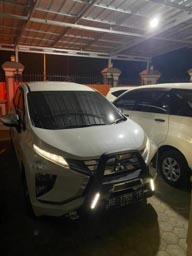plat: (108, 189, 148, 208)
